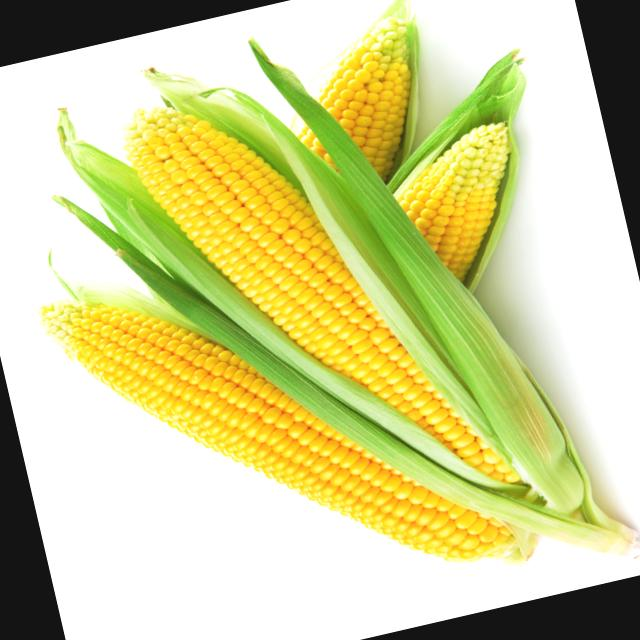corn: (68, 42, 596, 544), (42, 199, 516, 560)
